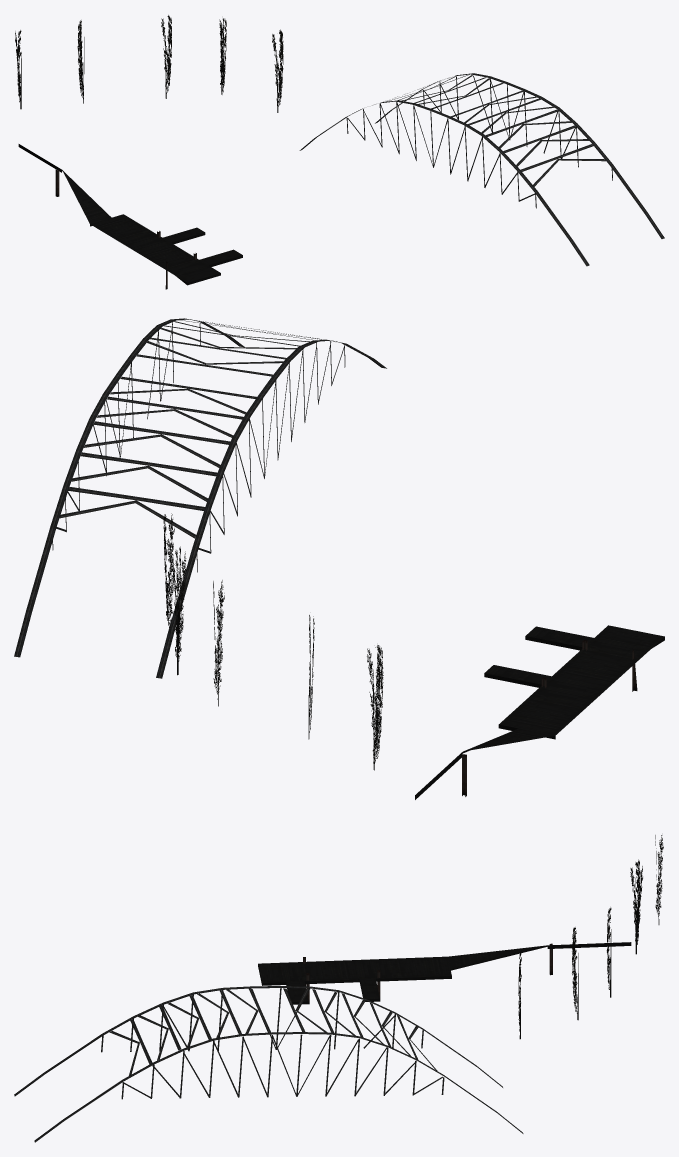
Rendered from cell_16_-13.gltf.
The picture shows the model from 3 angles, top to bottom: view 1: azimuth 30°, elevation 25°; view 2: azimuth 150°, elevation 25°; view 3: azimuth 270°, elevation 25°; orthographic projection. The views are drawn at different scales.
Visible parts, largest first — view 1: cell_16_-13; view 2: cell_16_-13; view 3: cell_16_-13.
Part boxes in pixels (left/top/right/bottom): cell_16_-13: left=15, top=15, right=664, bottom=289; cell_16_-13: left=14, top=318, right=664, bottom=799; cell_16_-13: left=14, top=835, right=663, bottom=1142.
Bounding box in the file's own units: 121 × 42.65 × 155.
5 materials, 5 textured.
